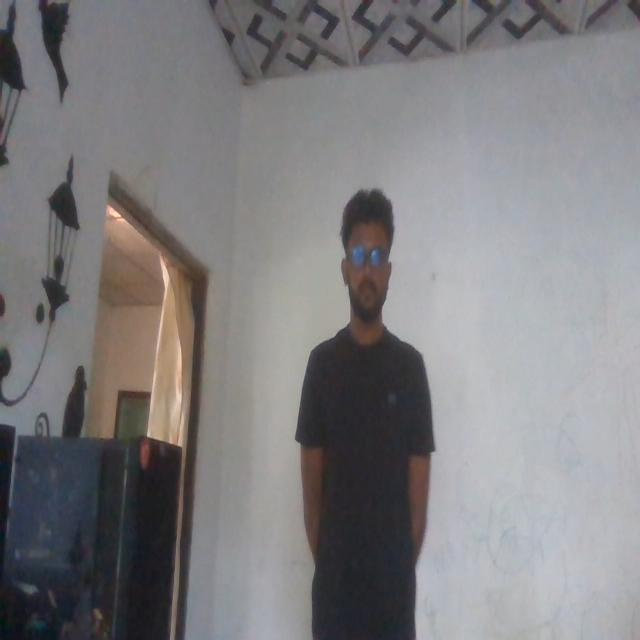Person: (298, 202, 436, 640)
